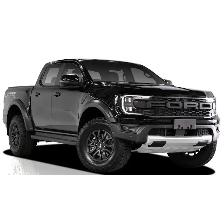NON-EV: (3, 57, 221, 173)
